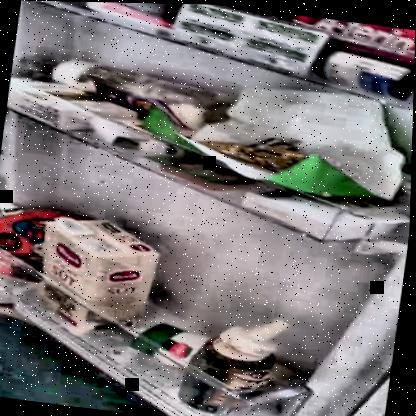milk: (38, 214, 156, 309)
